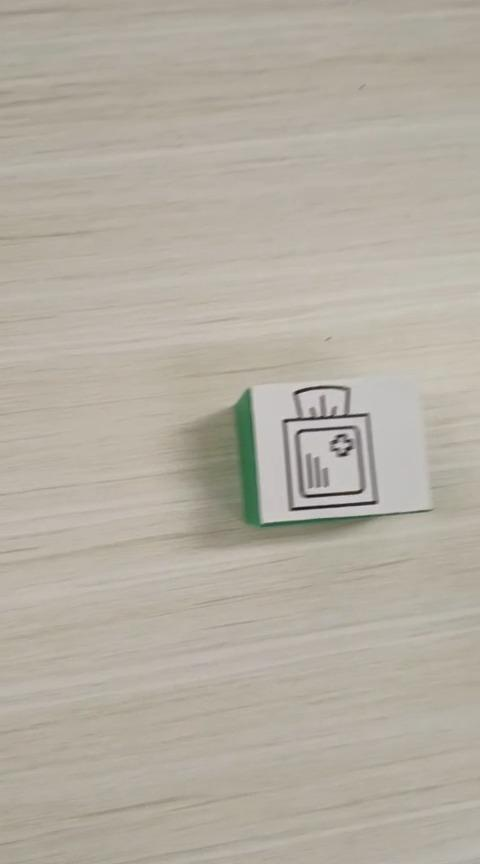Gauze: (233, 370, 434, 527)
